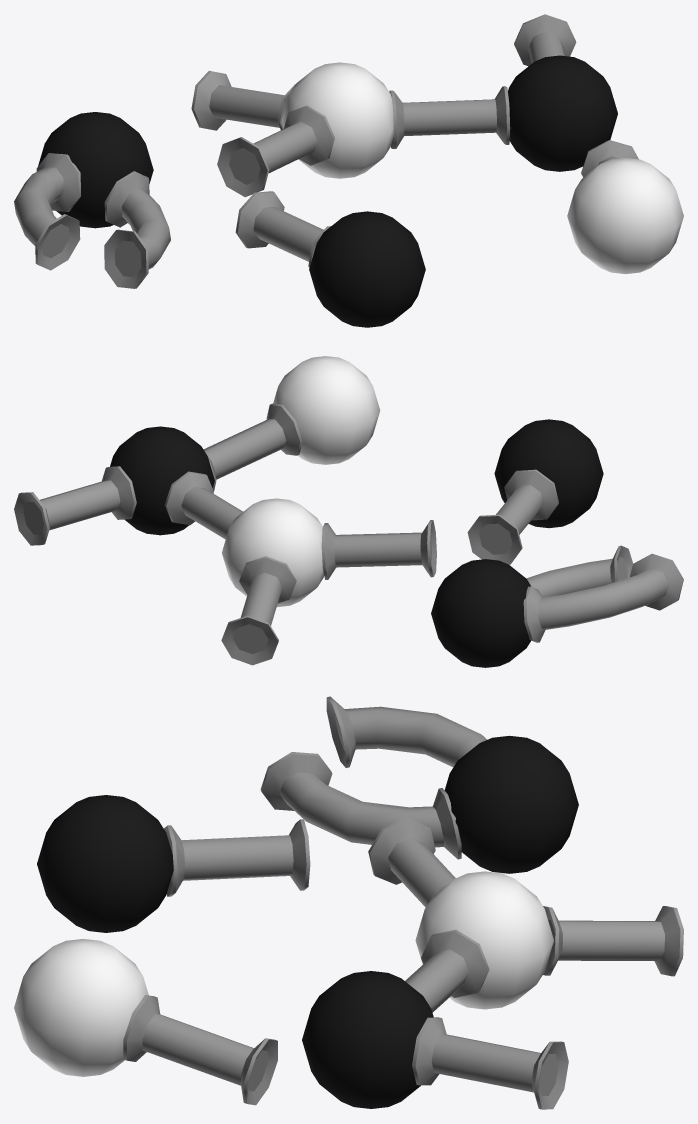
File: SM_Molecules_Pattern3_LOD0.FBX
3 renders of one model, top to bottom at view 1: azimuth 30°, elevation 25°; view 2: azimuth 150°, elevation 25°; view 3: azimuth 270°, elevation 25°, orthographic. The views are drawn at different scales.
Parts seen in each view (by area): view 1: SM_Molecule_Parts_Pattern3; view 2: SM_Molecule_Parts_Pattern3; view 3: SM_Molecule_Parts_Pattern3.
Boxes of the visible parts, x1,y1,x2,y2 form: SM_Molecule_Parts_Pattern3: [14, 14, 683, 327]; SM_Molecule_Parts_Pattern3: [14, 356, 683, 667]; SM_Molecule_Parts_Pattern3: [14, 696, 683, 1109].
Bounding box in the file's own units: 0.1863 × 0.03 × 0.145.
1 material, 1 textured.
